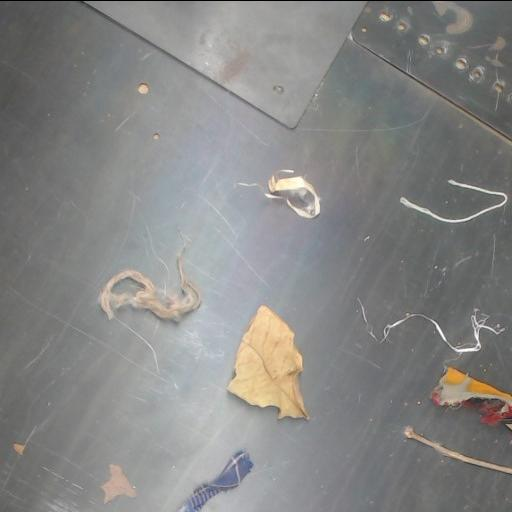cloth: (227, 305, 308, 418), (177, 450, 253, 512), (431, 367, 511, 425)
conveyor belt: (0, 1, 511, 512)
jute: (99, 253, 200, 321)
thread: (404, 426, 511, 473), (400, 180, 508, 223), (382, 313, 495, 352), (265, 170, 319, 217)
